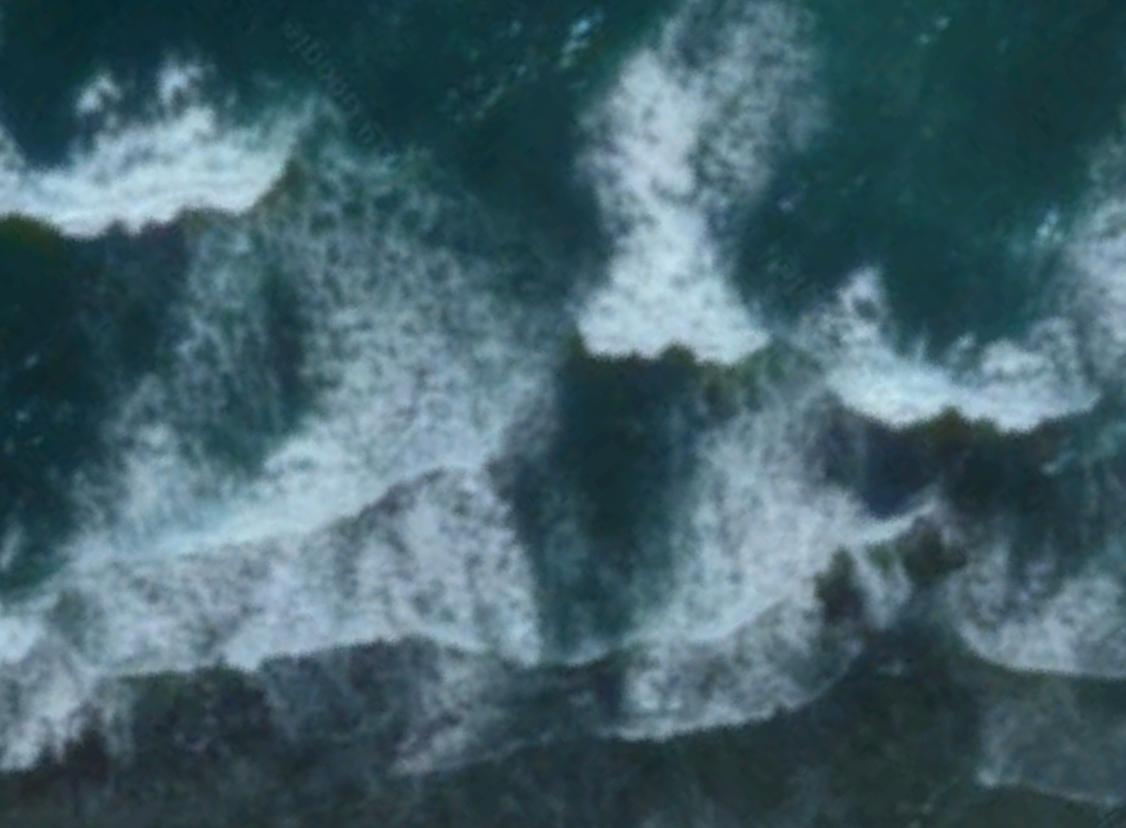rip_current: (449, 267, 727, 697)
